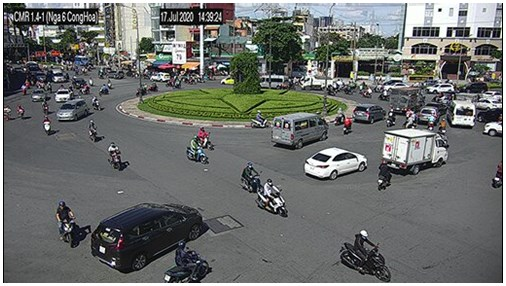xe_hoi: (304, 147, 367, 181), (352, 104, 386, 125), (57, 100, 88, 121), (378, 83, 410, 95), (477, 108, 503, 122), (458, 82, 489, 93), (476, 97, 502, 110), (484, 120, 502, 136), (427, 84, 454, 93), (54, 89, 74, 101), (151, 72, 171, 82), (220, 75, 240, 85), (32, 88, 47, 101), (106, 70, 125, 80)
xe_khach: (273, 112, 327, 148), (449, 100, 475, 130), (257, 75, 289, 88), (48, 68, 64, 82)
xe_may: (338, 229, 392, 282), (165, 240, 209, 283), (256, 179, 288, 218), (56, 201, 76, 247), (240, 162, 265, 195), (186, 136, 208, 166), (196, 126, 213, 152), (378, 159, 392, 190), (107, 141, 120, 170), (251, 110, 268, 128), (87, 119, 97, 143), (42, 114, 52, 136), (343, 116, 354, 136), (386, 108, 397, 128), (333, 106, 344, 125), (426, 112, 435, 132), (90, 95, 100, 112), (378, 88, 390, 102), (98, 83, 110, 96), (135, 83, 147, 96), (343, 83, 355, 96), (439, 117, 447, 136), (16, 104, 25, 120), (359, 86, 371, 98), (41, 97, 49, 114), (148, 81, 159, 93), (78, 83, 89, 94), (327, 85, 337, 97), (166, 74, 174, 88), (20, 83, 27, 97)
xe_tai: (382, 130, 448, 172), (390, 87, 425, 115), (298, 76, 333, 90)
